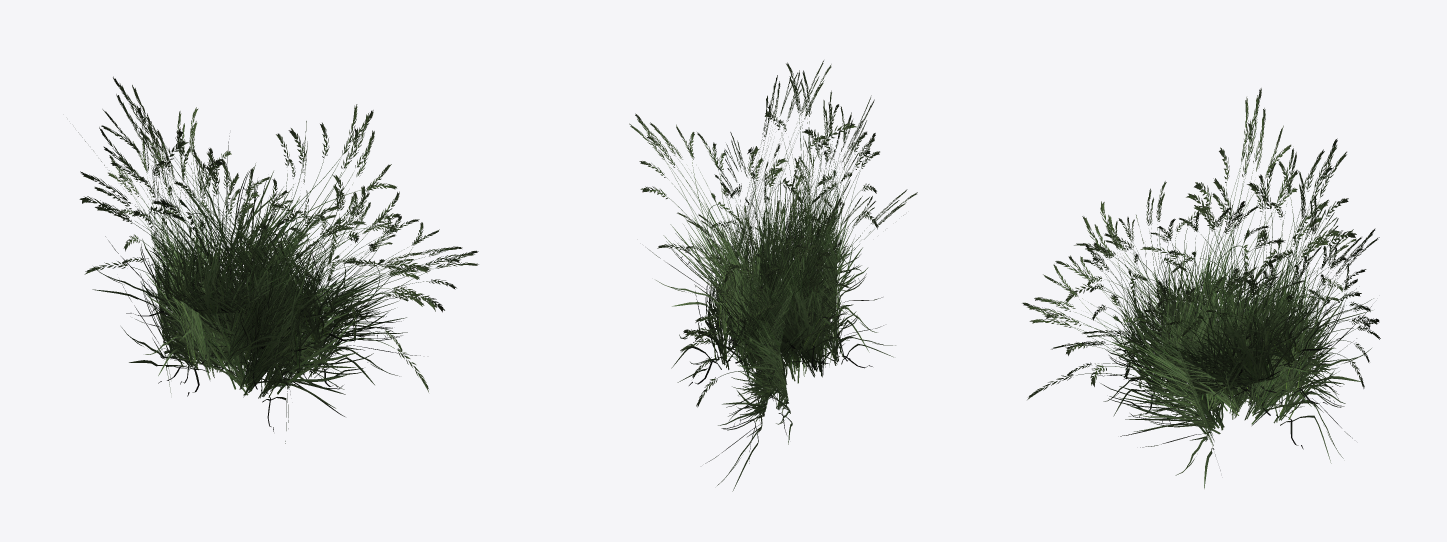
The model's file is Grass_43.fbx.
The picture shows the model from 3 angles, left to right: view 1: azimuth 30°, elevation 25°; view 2: azimuth 150°, elevation 25°; view 3: azimuth 270°, elevation 25°; orthographic projection. The views are drawn at different scales.
Visible parts, largest first — view 1: Grass_43; view 2: Grass_43; view 3: Grass_43.
Part boxes in pixels (<box>): Grass_43: <box>78,76,478,443</box>; Grass_43: <box>629,60,917,491</box>; Grass_43: <box>1022,88,1380,488</box>.
Bounding box in the file's own units: 3091 × 4999 × 4696.
